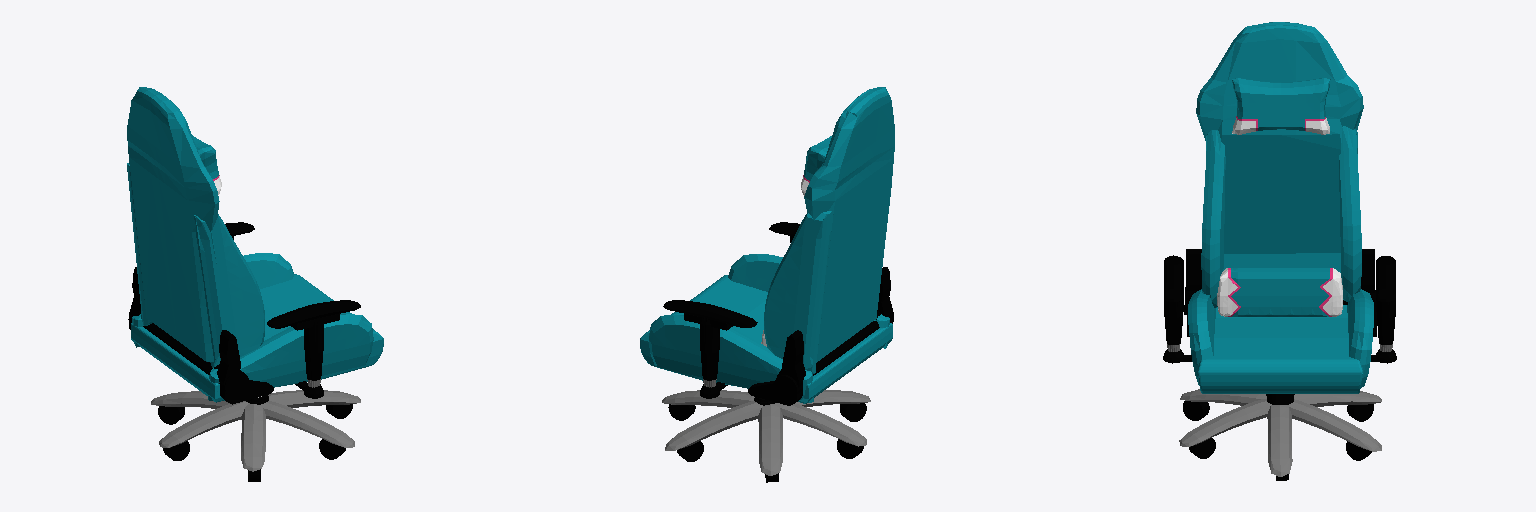
File: chair.obj
The picture shows the model from 3 angles: view 1: azimuth 30°, elevation 25°; view 2: azimuth 150°, elevation 25°; view 3: azimuth 270°, elevation 25°; orthographic projection.
Parts seen in each view (by area): view 1: Chair.001; view 2: Chair.001; view 3: Chair.001.
Boxes of the visible parts, x1=… form: Chair.001: x1=127, y1=87, x2=383, y2=481; Chair.001: x1=640, y1=87, x2=894, y2=482; Chair.001: x1=1163, y1=22, x2=1396, y2=480.
Bounding box in the file's own units: 4.52 × 7.58 × 4.34.